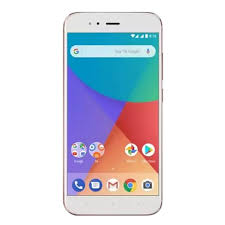mi: (59, 7, 163, 219)
